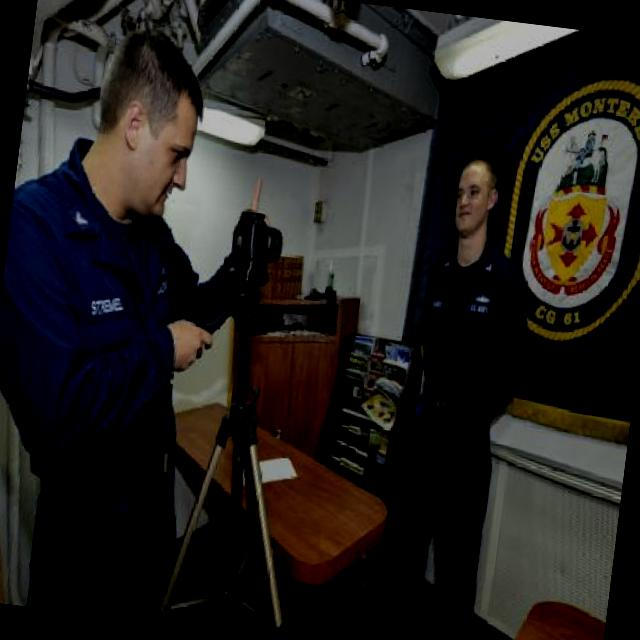Person: (0, 12, 293, 628), (374, 129, 552, 640), (572, 125, 596, 173)
